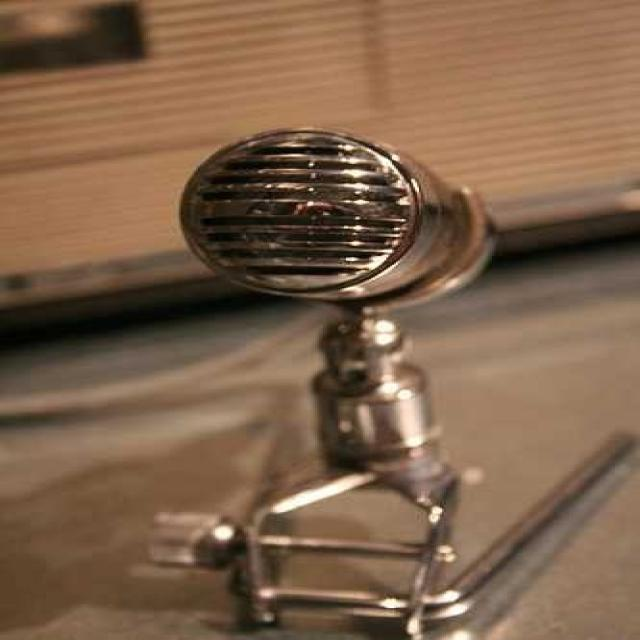microphone: (186, 126, 491, 472)
